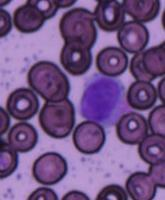L: (78, 72, 129, 127)
